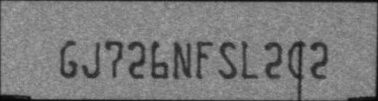2: (263, 41, 283, 79), (309, 41, 329, 79), (126, 40, 145, 79)
6: (150, 40, 168, 79)
7: (104, 41, 123, 78)
C: (288, 40, 304, 80)
F: (195, 40, 212, 79)
G: (60, 40, 79, 79)
J: (81, 40, 99, 78)
L: (240, 39, 259, 79)
N: (173, 40, 192, 79)
S: (218, 40, 237, 80)
